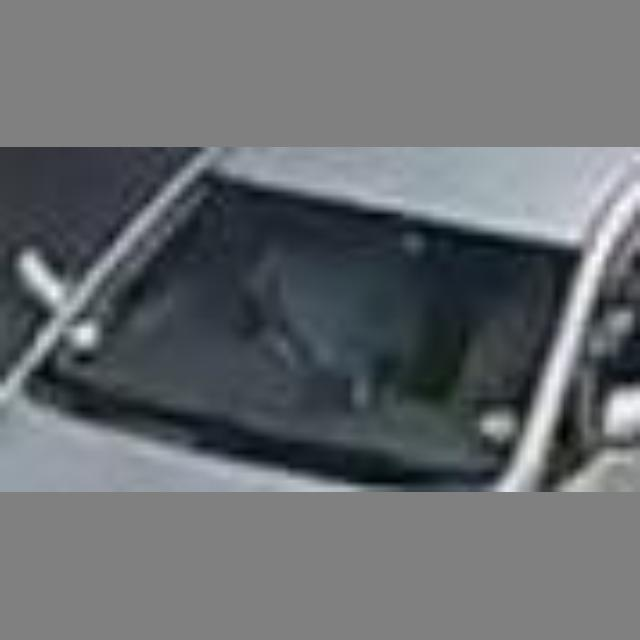tidak-pakai: (230, 219, 439, 399)
